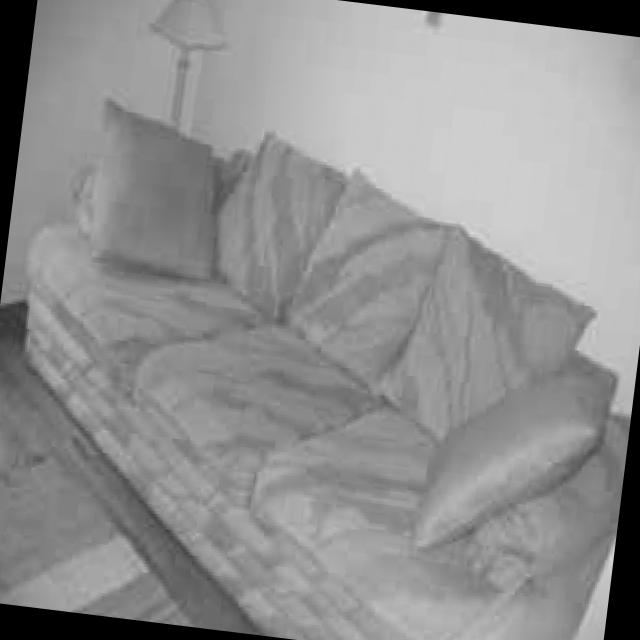carpet floor: (0, 451, 186, 620)
cushion occluded: (370, 220, 590, 436), (285, 159, 452, 382), (408, 376, 614, 547), (211, 132, 344, 322), (90, 92, 213, 277)
floor -X: (0, 289, 601, 640)
floor marble: (150, 0, 223, 126)
sofa bed: (17, 148, 620, 640)
wall clock: (197, 0, 640, 574), (2, 0, 218, 305)
